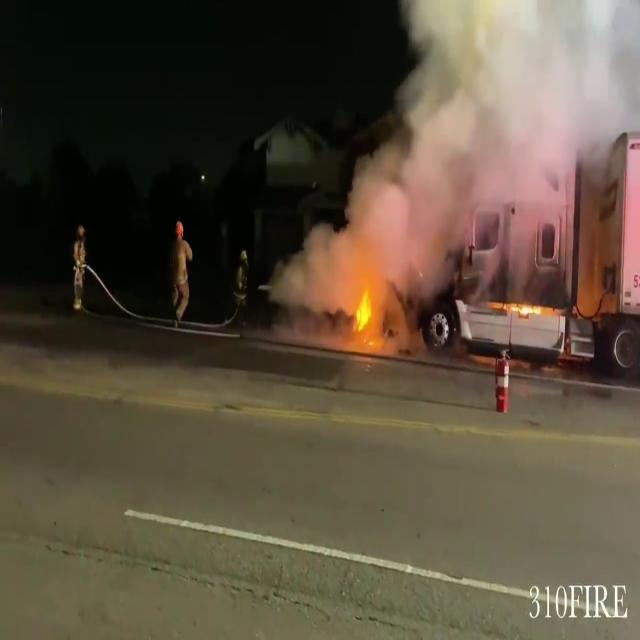Fire: (349, 275, 378, 344)
Smoke: (332, 0, 638, 293)
